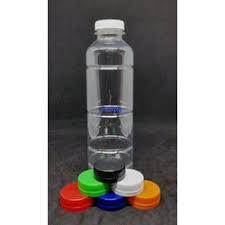BIODEGRADABLE: (66, 15, 149, 167)
